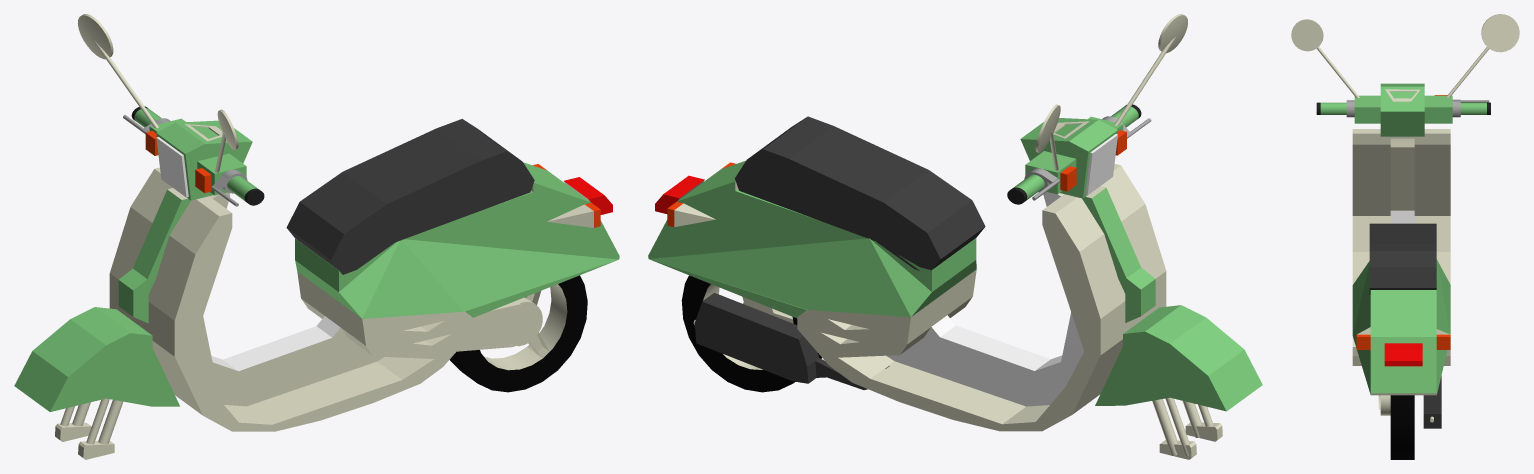
File: Vespa.fbx
The picture shows the model from 3 angles, left to right: view 1: azimuth 30°, elevation 25°; view 2: azimuth 150°, elevation 25°; view 3: azimuth 270°, elevation 25°; orthographic projection. The views are drawn at different scales.
Visible parts, largest first — view 1: Giorno1, Group1, Group3, Group5, Group4, Group7, cone; view 2: Giorno1, Group1, Group2, Group5, Group3, Group4, Group9, cone1; view 3: Giorno1, Group1, Group5, Group3, Group2, Group7, Group9, cylinder2.
Boxes of the visible parts, x1,y1,x2,y2 form: Giorno1: (14,14,619,444); Group1: (286,119,534,274); Group3: (449,275,587,392); Group5: (149,118,252,200); Group4: (156,137,188,197); Group7: (222,169,264,205); cone: (78,15,111,58); Giorno1: (648,14,1262,455); Group1: (735,116,985,270); Group2: (694,292,889,389); Group5: (1020,116,1123,198); Group3: (681,275,821,392); Group4: (1085,134,1117,195); Group9: (1007,168,1049,204); cone1: (1160,15,1187,52); Giorno1: (1291,14,1519,422); Group1: (1369,223,1436,294); Group5: (1354,83,1452,136); Group3: (1390,395,1414,459); Group2: (1423,376,1441,428); Group7: (1316,100,1354,117); Group9: (1452,100,1490,117); cylinder2: (1446,47,1489,97).
Bounding box in the file's own units: 91.82 × 63.06 × 42.29.
